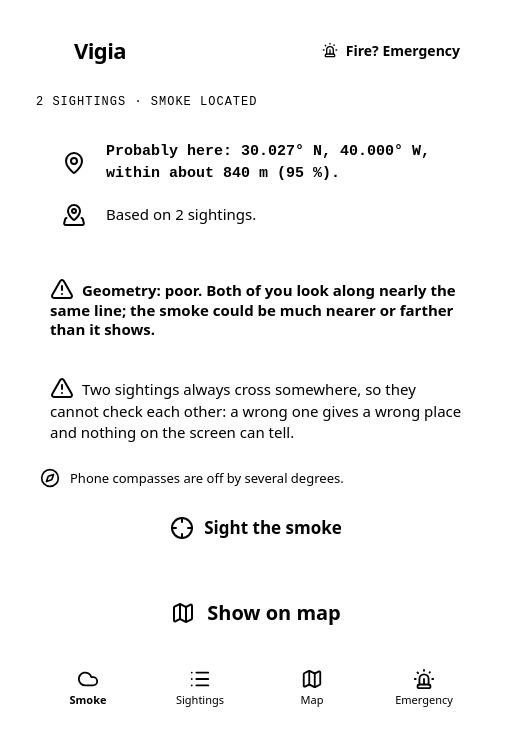
Test case: the primary action, above the tabs (task 21.3) › runs the actions: Show on map opens the Map tab, Sight the smoke the Sight screen
Click the button "Show on map". click: [256, 613]
box: left=36, top=582, right=476, bottom=644
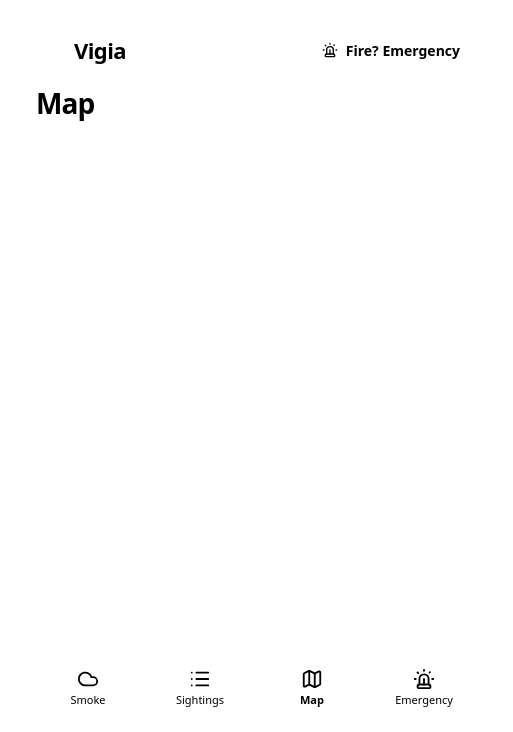
Click the tab "Smoke". click: [88, 687]
box: left=32, top=656, right=144, bottom=718
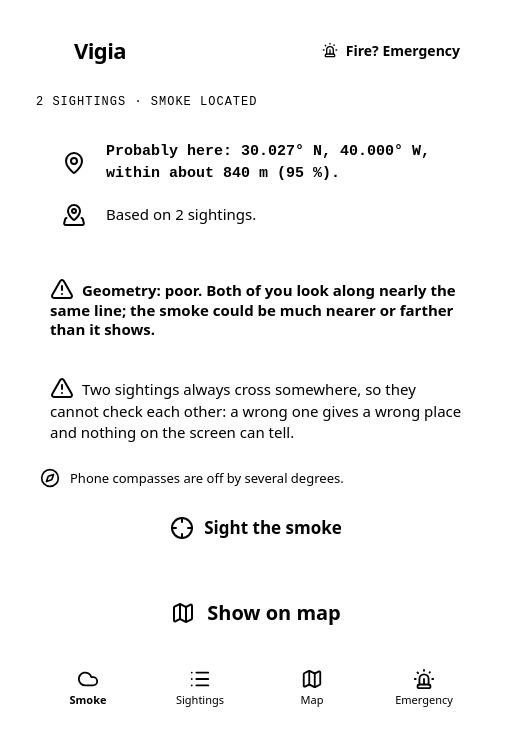
Click the button "Sight the smoke". click: [256, 528]
box: left=36, top=500, right=476, bottom=556
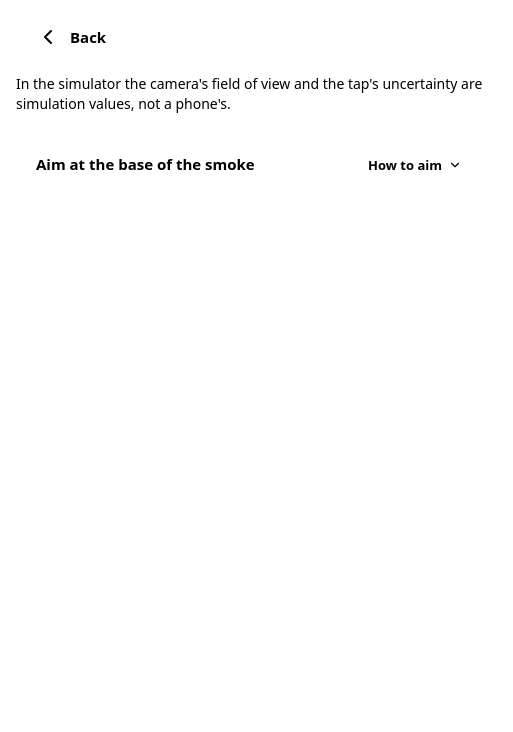
Check: the element with test id "sight-screen" is shown, box left=16, top=12, right=496, bottom=187
